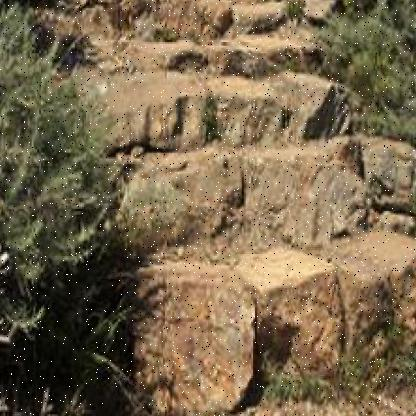stair_up: (76, 72, 416, 367)
